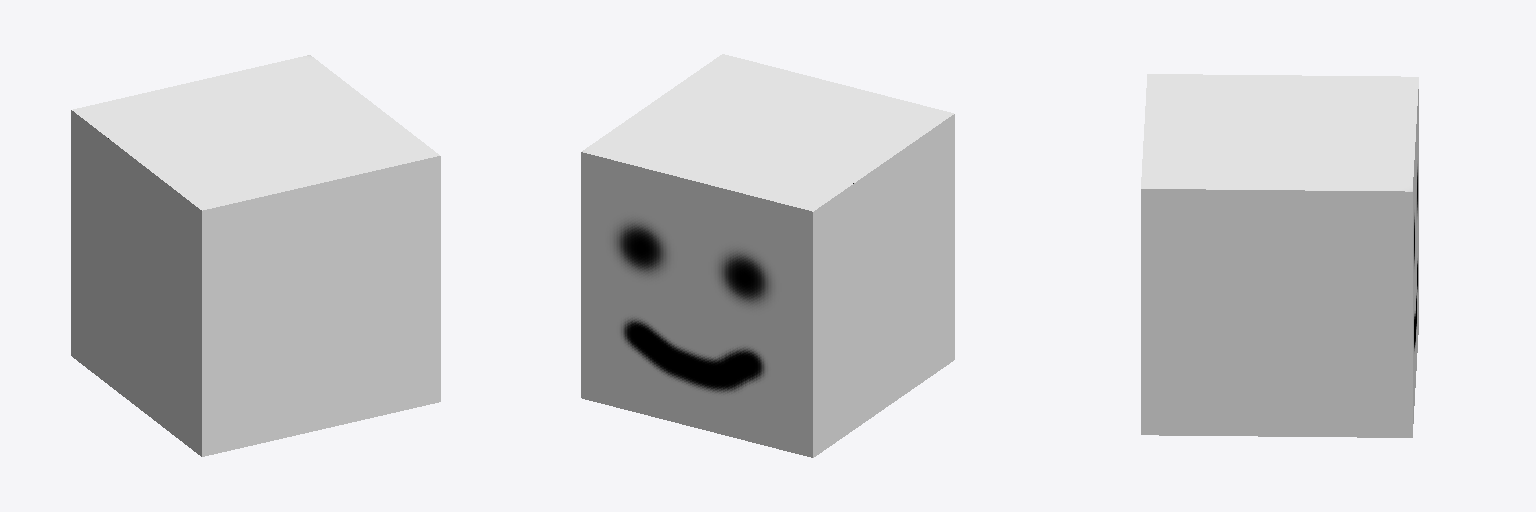
The picture shows the model from 3 angles: view 1: azimuth 30°, elevation 25°; view 2: azimuth 150°, elevation 25°; view 3: azimuth 270°, elevation 25°; orthographic projection.
Parts seen in each view (by area): view 1: head_立方体; view 2: head_立方体; view 3: head_立方体.
Boxes of the visible parts, box(x1,y1,x2,y2) form: head_立方体: box(71, 55, 440, 456); head_立方体: box(581, 54, 954, 457); head_立方体: box(1141, 74, 1418, 437).
Size of the model in its own units: 1.13 by 1.1 by 1.13.
Materials: 1 (1 with a texture image).